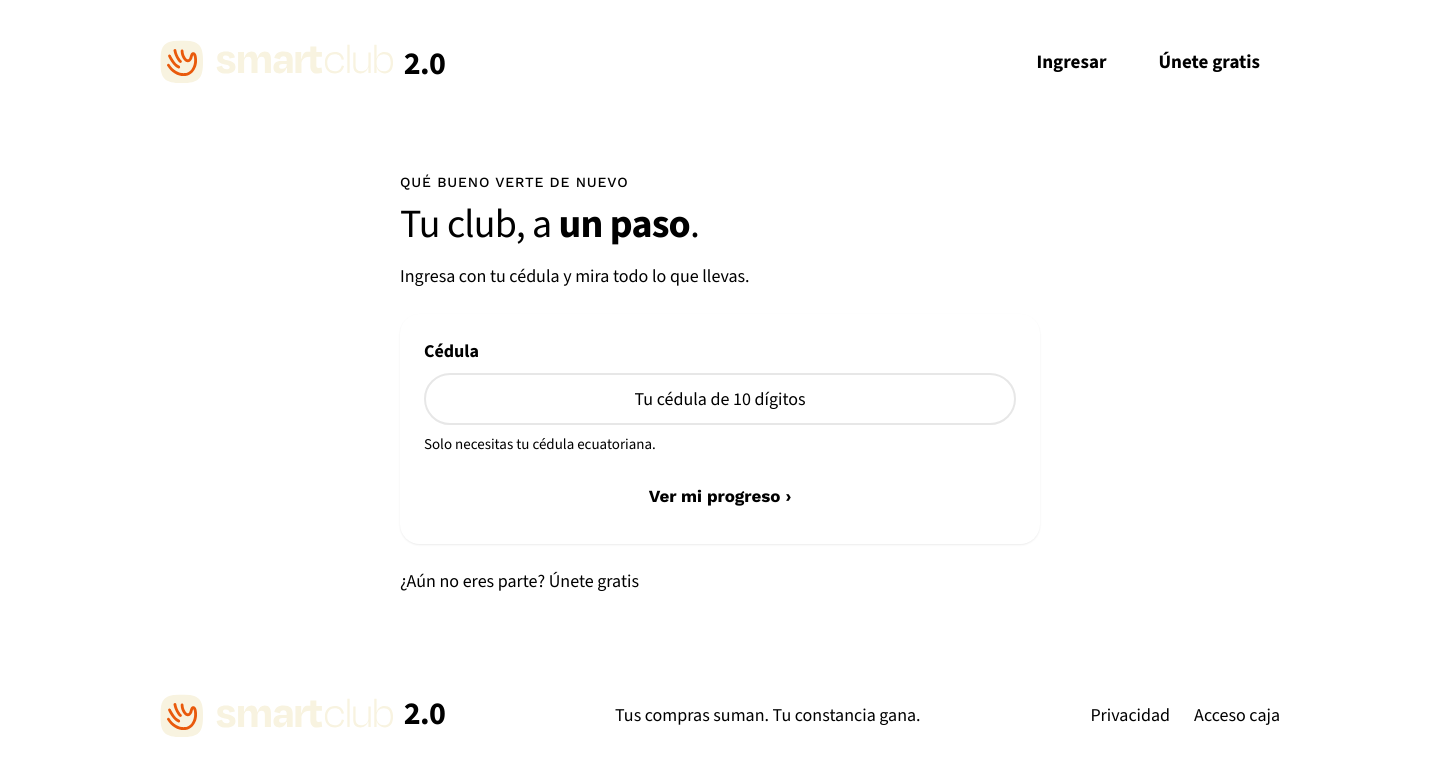
Test case: API client › validates forms before submitting invalid CI
Type "invalid" into the field labelled "Cédula" at (720, 399), box 424,373 -> 1016,425
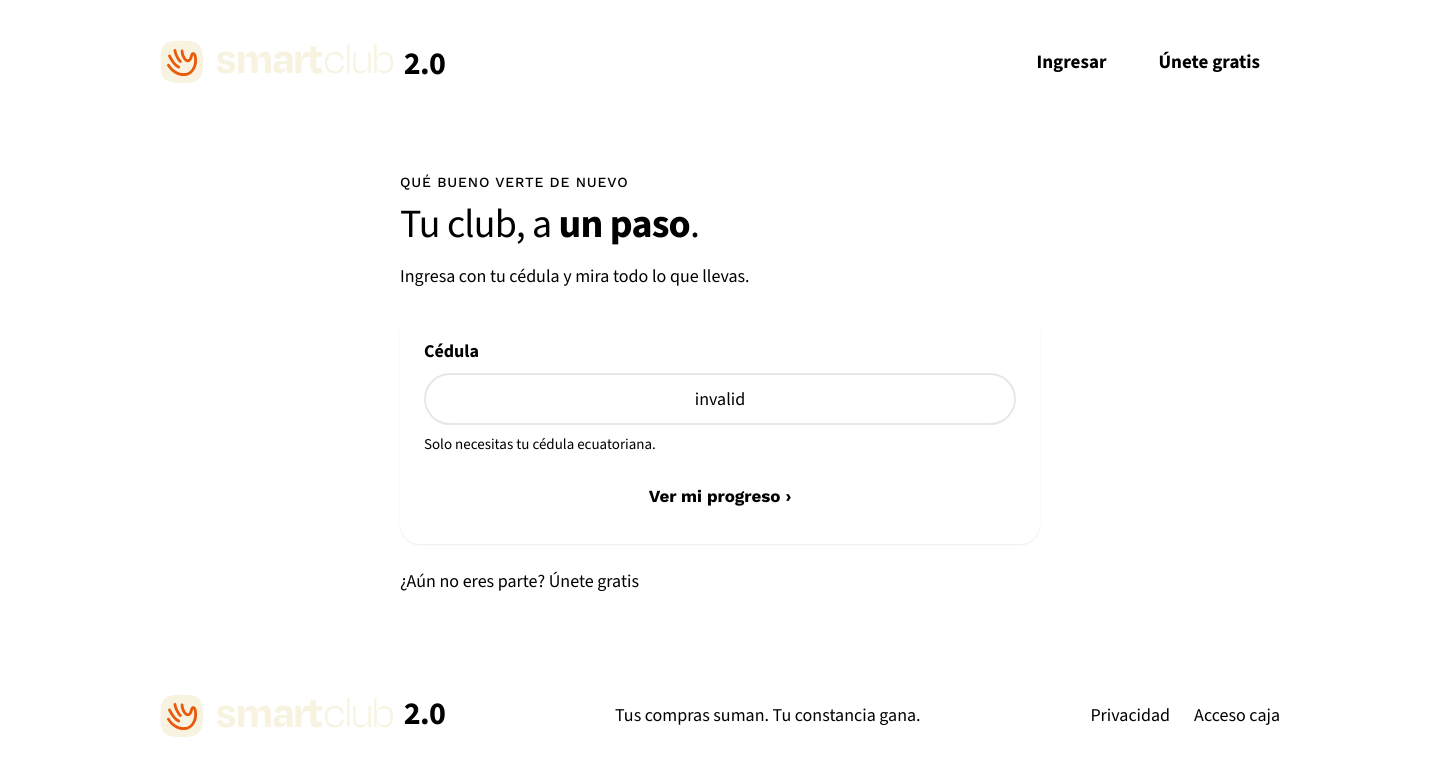
Submit the form "Ver mi progreso ›", box 400,314 -> 1040,544
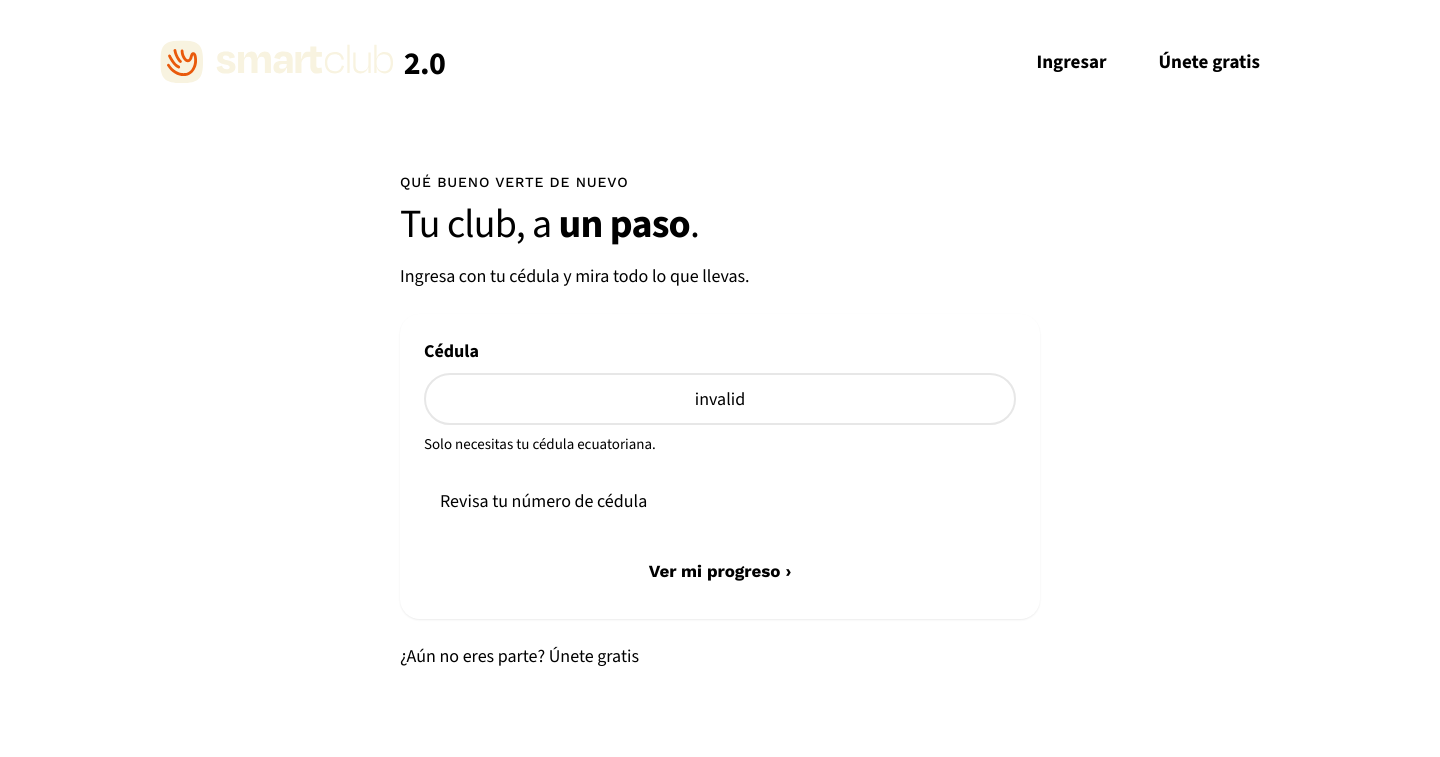
Expected: the message reads "Revisa tu número de cédula", 440,488 -> 647,512
